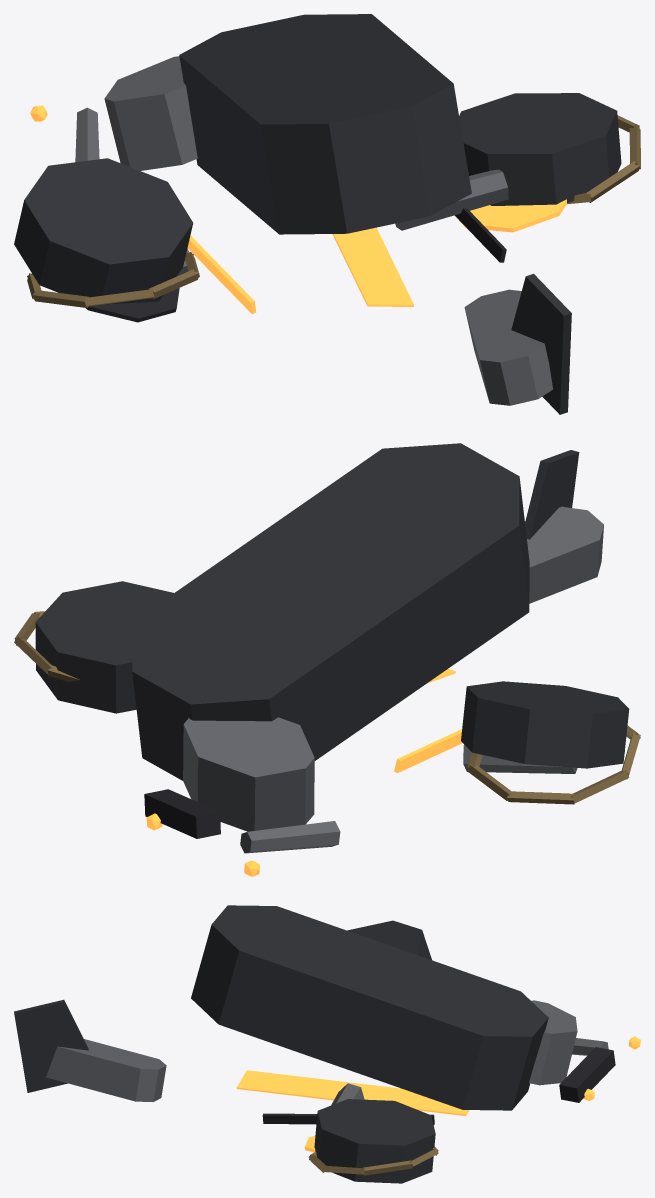
File: Wreck_Aegis_Gunship.fbx
3 renders of one model, top to bottom at view 1: azimuth 30°, elevation 25°; view 2: azimuth 150°, elevation 25°; view 3: azimuth 270°, elevation 25°, orthographic. The views are drawn at different scales.
Visible parts, largest first — view 1: Wreck_Aegis_Gunship; view 2: Wreck_Aegis_Gunship; view 3: Wreck_Aegis_Gunship.
Part boxes in pixels (x1=…): Wreck_Aegis_Gunship: x1=14, y1=14, x2=640, y2=414; Wreck_Aegis_Gunship: x1=14, y1=443, x2=640, y2=876; Wreck_Aegis_Gunship: x1=14, y1=905, x2=640, y2=1183.
Size of the model in its own units: 1.48 by 0.5177 by 1.82.
